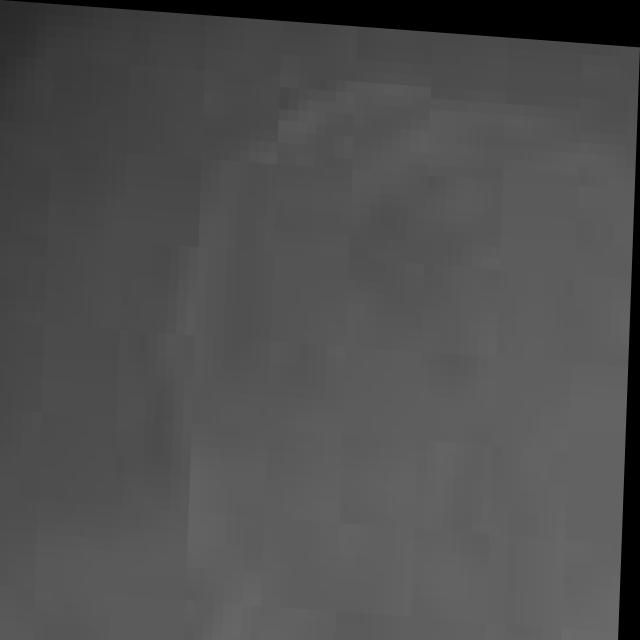fracture: (0, 0, 637, 640)
